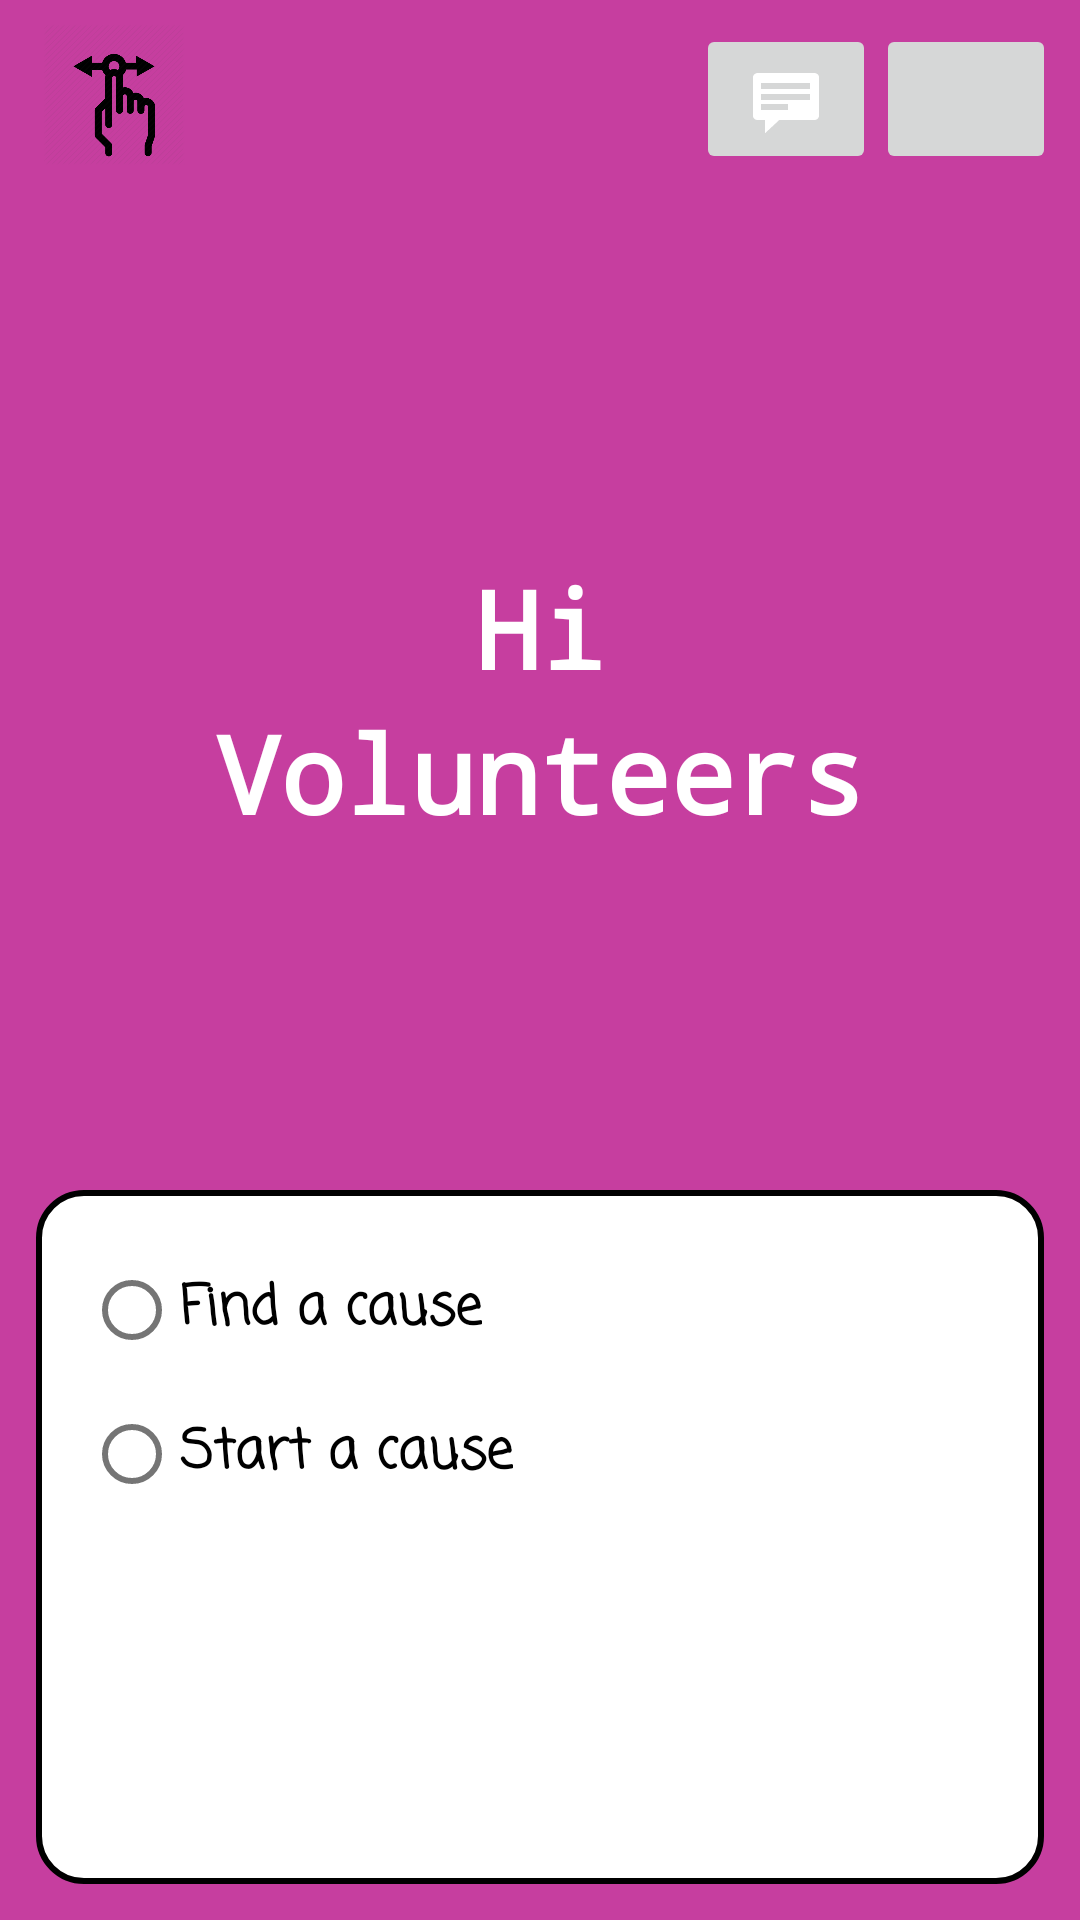

Locate icon controls on the screen. Image size 1080×1920, boxes as bbox=[x1, y1, x2, y2].
chat: bbox=[708, 42, 864, 156]
navigate: bbox=[73, 54, 155, 157]
